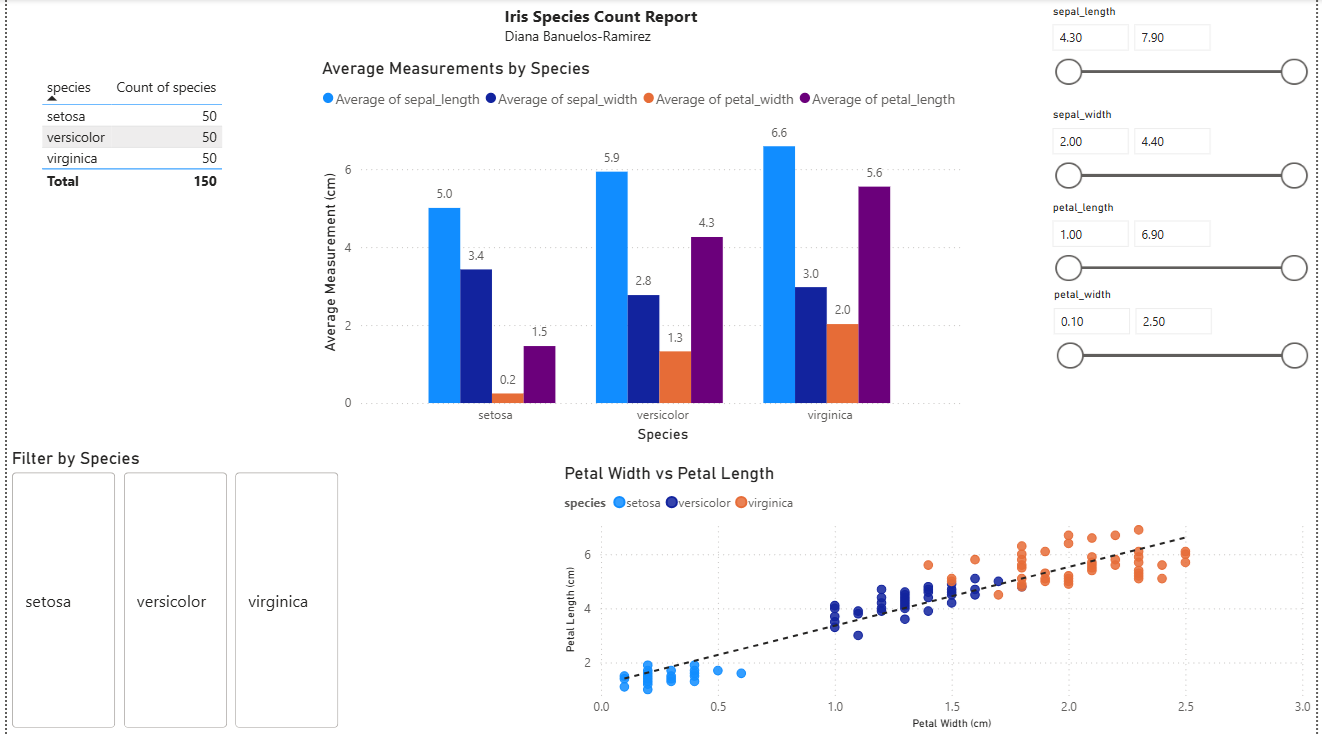

What the dashboard file says about the page in this screenshot:
{"tool":"powerbi","page":{"name":"Final Dashboard","canvas":[1280,720],"ordinal":5},"visuals":[{"type":"textbox","box":[481.6,0,207.2,115.3],"z":0},{"type":"tableEx","fields":{"Values":["iris.species","CountNonNull(iris.species)"]},"box":[28.1,69.7,220.1,159],"z":1000},{"type":"scatterChart","title":"Petal Width vs Petal Length","fields":{"X":["iris.petal_width"],"Y":["iris.petal_length"],"Series":["iris.species"]},"box":[540.5,453.7,739.8,266.6],"z":2000},{"type":"slicer","fields":{"Values":["iris.sepal_length"]},"box":[1010.1,0,270.2,113.7],"z":3000},{"type":"clusteredColumnChart","title":"Average Measurements by Species","fields":{"Category":["iris.species"],"Y":["Avg(iris.sepal_length)","Avg(iris.sepal_width)","Avg(iris.petal_width)","Avg(iris.petal_length)"]},"box":[303.3,57.5,638.3,381.5],"z":4000},{"type":"advancedSlicerVisual","title":"Filter by Species","fields":{"Values":["iris.species"]},"box":[0,439,330.2,280],"z":5000},{"type":"slicer","fields":{"Values":["iris.sepal_width"]},"box":[1010.1,101.5,270.2,113.7],"z":6000},{"type":"slicer","fields":{"Values":["iris.petal_length"]},"box":[1010.1,192,270.2,114.9],"z":7000},{"type":"slicer","fields":{"Values":["iris.petal_width"]},"box":[1011.3,277.6,269,137],"z":8000}]}

Visuals, with their boxes in screenshot pixels (x1, y1, x2, y2), scaled from the page's 1280x720 canvas onto the 1322x735 screenshot:
textbox: BBox(497, 0, 711, 118)
tableEx - iris.species x CountNonNull(iris.species): BBox(29, 71, 256, 233)
"Petal Width vs Petal Length" scatterChart: BBox(558, 463, 1321, 734)
slicer - iris.sepal_length: BBox(1043, 0, 1321, 116)
"Average Measurements by Species" clusteredColumnChart: BBox(313, 59, 972, 448)
"Filter by Species" advancedSlicerVisual: BBox(0, 448, 341, 734)
slicer - iris.sepal_width: BBox(1043, 104, 1321, 220)
slicer - iris.petal_length: BBox(1043, 196, 1321, 313)
slicer - iris.petal_width: BBox(1044, 283, 1321, 423)
